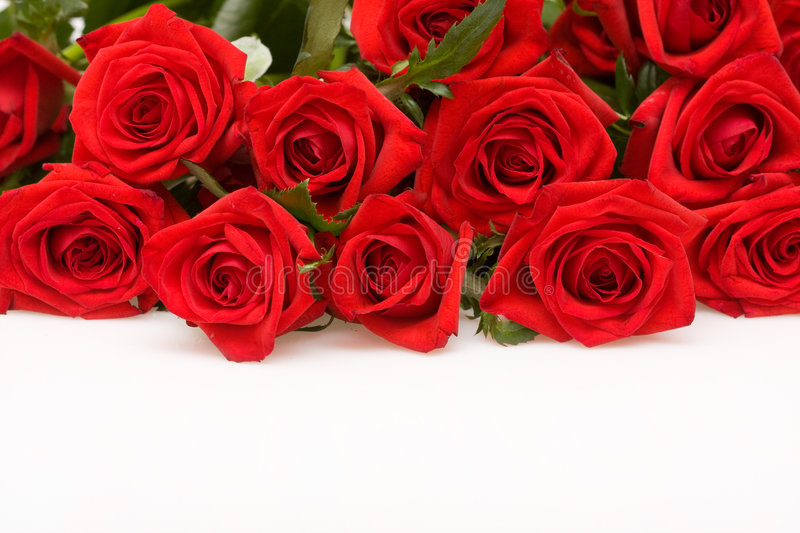RedRose: (498, 186, 703, 345), (408, 75, 604, 220), (82, 5, 228, 182), (12, 166, 162, 329), (181, 193, 321, 351), (250, 76, 410, 211), (328, 212, 462, 364), (637, 84, 795, 202), (582, 0, 767, 78), (348, 0, 553, 70), (712, 203, 800, 325)
